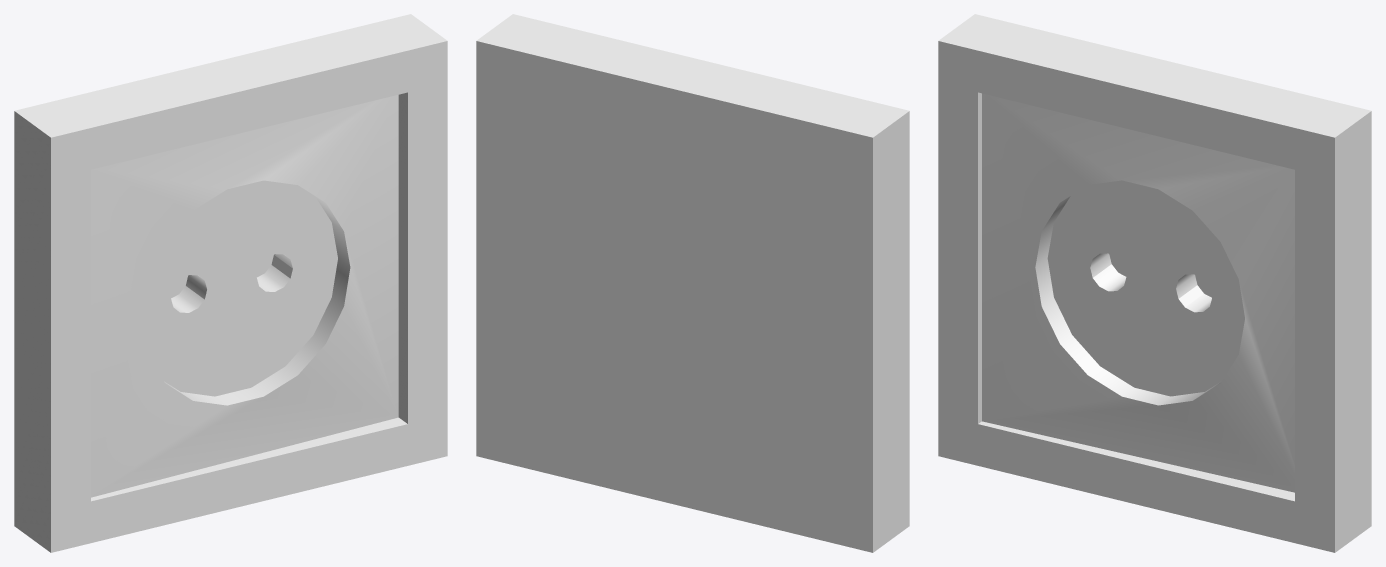
Rendered from Socket.fbx.
3 views of the same model, side by side, from view 1: azimuth 30°, elevation 25°; view 2: azimuth 150°, elevation 25°; view 3: azimuth 330°, elevation 25° (orthographic).
Parts seen in each view (by area): view 1: socket; view 2: socket; view 3: socket.
Part boxes in pixels (x1,y1,x2,y2): socket: [14, 14, 447, 552]; socket: [476, 14, 909, 552]; socket: [938, 14, 1371, 552].
Size of the model in its own units: 71.04 by 71.04 by 11.41.
Materials: 1 (1 with a texture image).
